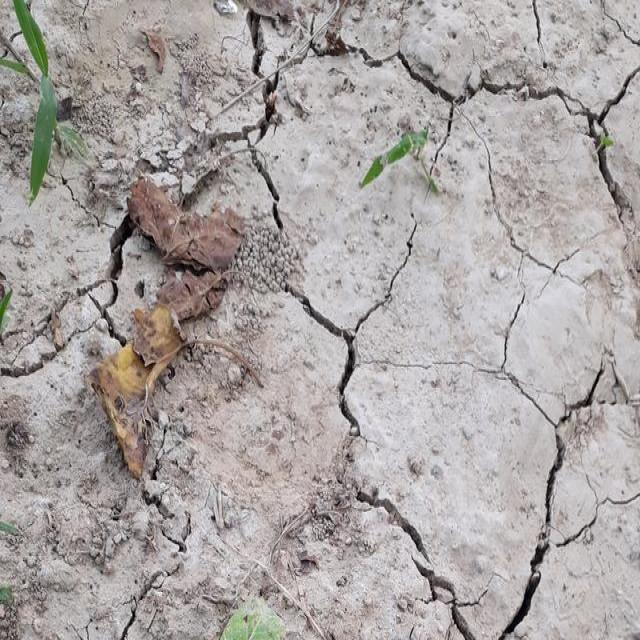weed: (14, 0, 58, 210), (354, 130, 424, 189)
